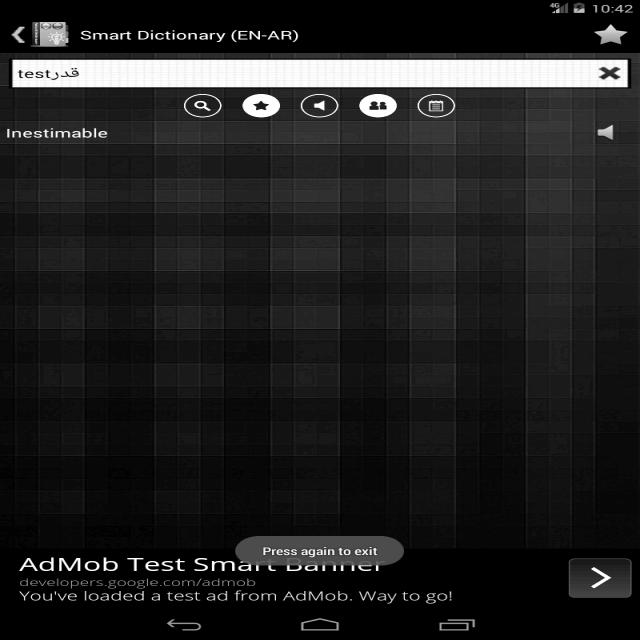Button: (561, 556, 637, 601)
ImageButton: (294, 92, 338, 120), (178, 92, 223, 119), (410, 92, 458, 116), (238, 92, 278, 120), (585, 25, 632, 48), (356, 94, 396, 117), (589, 121, 622, 145), (592, 61, 626, 83), (6, 23, 28, 45)
TextView: (21, 553, 238, 601), (79, 25, 310, 47), (258, 541, 387, 559), (12, 125, 111, 142), (18, 66, 80, 83)
